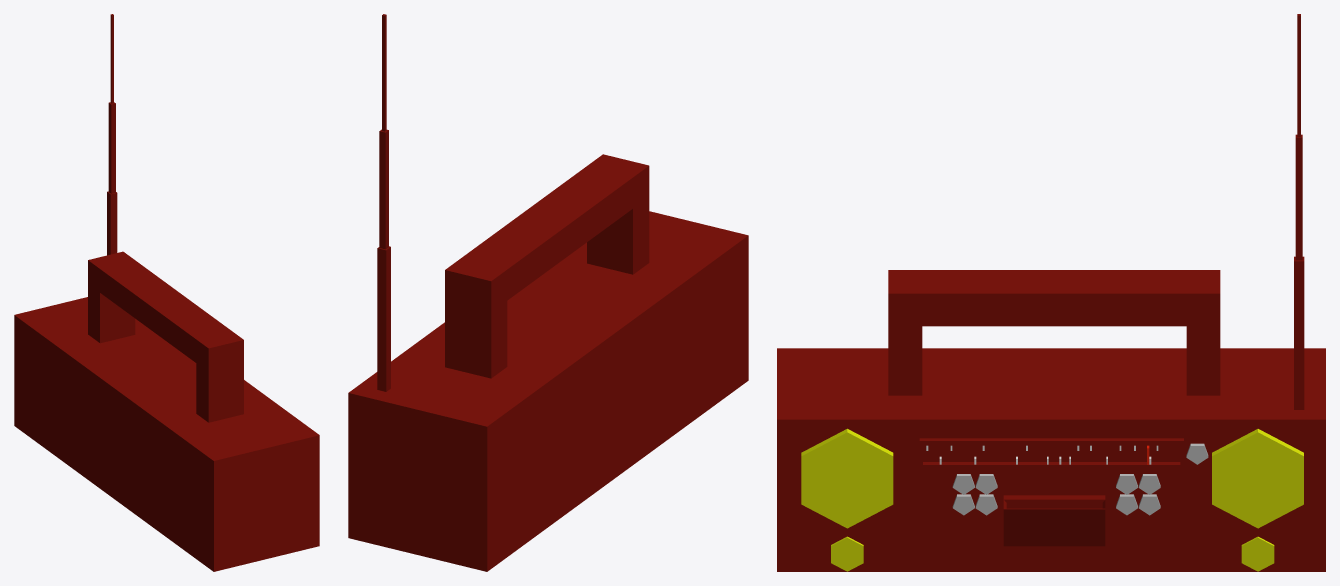
Rendered from Radio.fbx.
The picture shows the model from 3 angles, left to right: view 1: azimuth 30°, elevation 25°; view 2: azimuth 150°, elevation 25°; view 3: azimuth 270°, elevation 25°; orthographic projection. The views are drawn at different scales.
Parts seen in each view (by area): view 1: pCylinder15; view 2: pCylinder15; view 3: pCylinder15.
Part boxes in pixels (left/top/right/bottom): pCylinder15: left=14, top=14, right=319, bottom=571; pCylinder15: left=348, top=14, right=748, bottom=571; pCylinder15: left=777, top=14, right=1325, bottom=571.
Size of the model in its own units: 0.6581 by 1.99 by 1.81.
